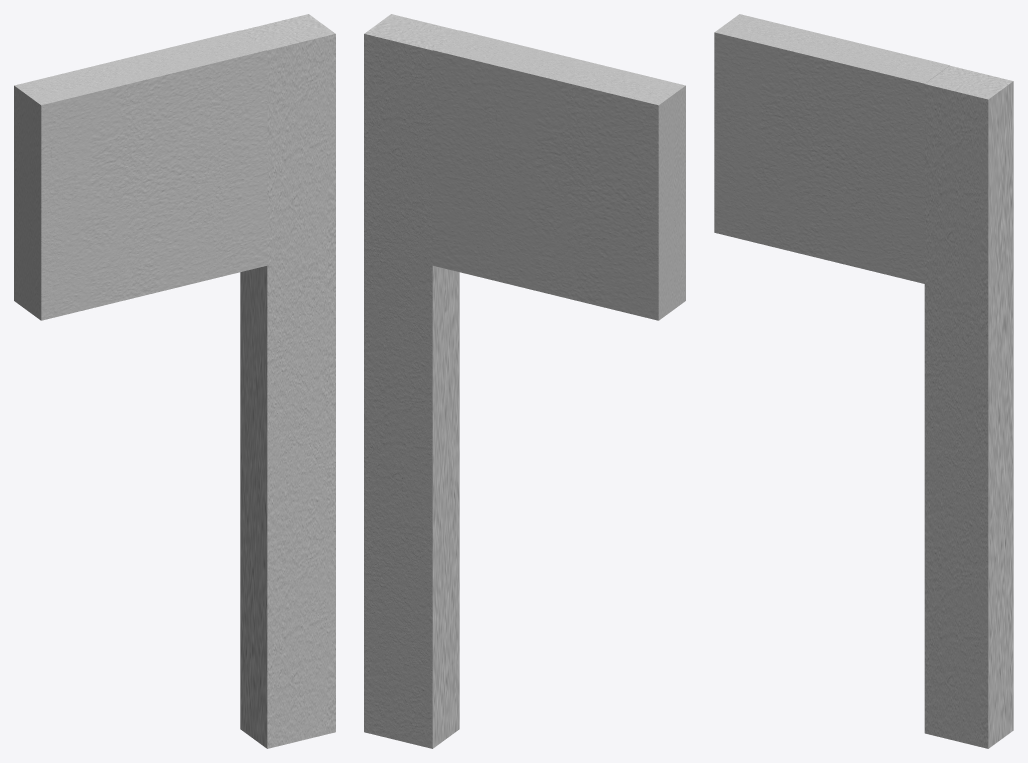
File: sinpuerta.obj
The picture shows the model from 3 angles, left to right: view 1: azimuth 30°, elevation 25°; view 2: azimuth 150°, elevation 25°; view 3: azimuth 330°, elevation 25°; orthographic projection. The views are drawn at different scales.
Visible parts, largest first — view 1: Cube.001_Cube.002, Cube.002_Cube.003; view 2: Cube.001_Cube.002, Cube.002_Cube.003; view 3: Cube.001_Cube.002, Cube.002_Cube.003.
Part boxes in pixels (x1,y1,x2,y2): Cube.001_Cube.002: [240, 14, 335, 748]; Cube.002_Cube.003: [14, 30, 267, 320]; Cube.001_Cube.002: [364, 14, 459, 748]; Cube.002_Cube.003: [432, 30, 685, 320]; Cube.001_Cube.002: [924, 65, 1013, 748]; Cube.002_Cube.003: [714, 14, 949, 283].
Size of the model in its own units: 4.52 by 10.25 by 0.72.
Materials: 1 (1 with a texture image).
